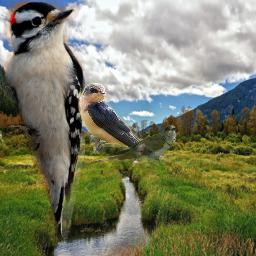Cuckoo: (83, 124, 176, 166)
Swallow: (78, 78, 168, 164)
Woodpecker: (0, 1, 85, 239)
